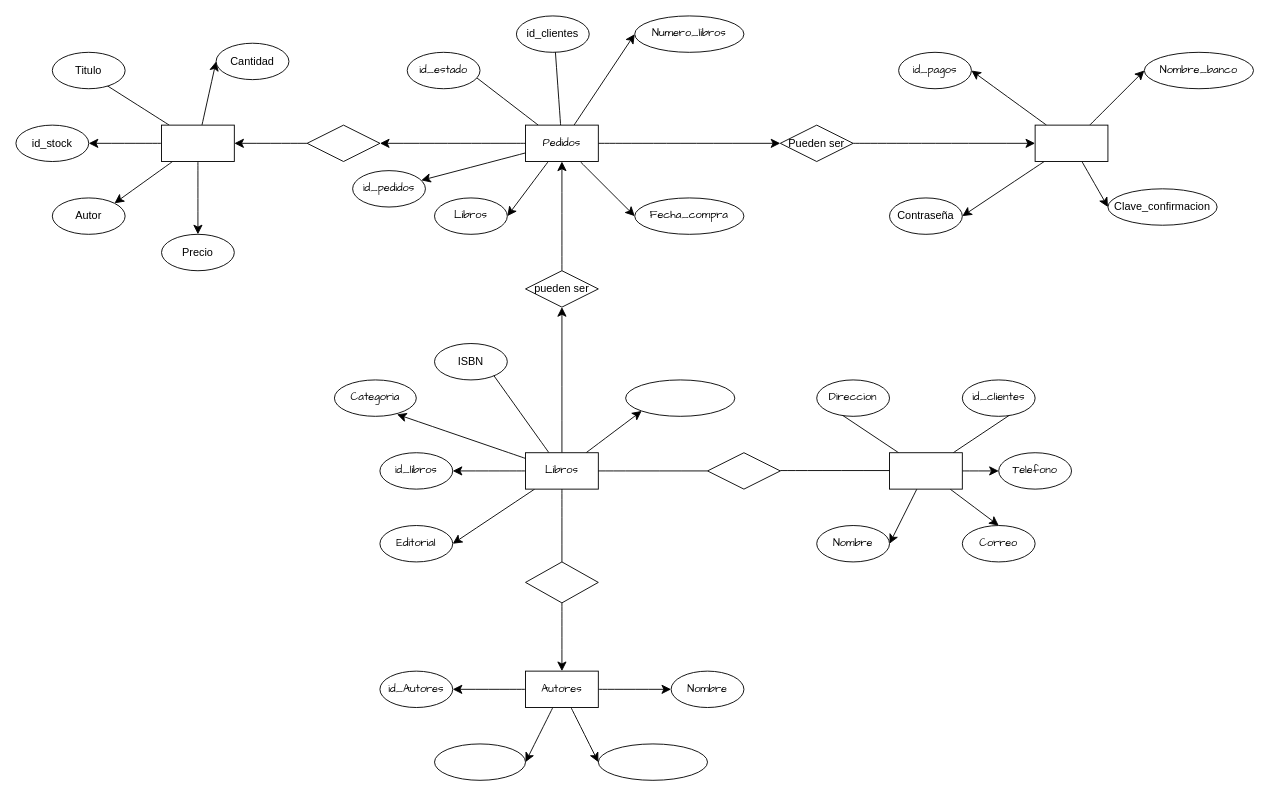
Image size: 1269x796. Some labels were removed from this diagram. The shapes that lost their labels are listed below. From the top down, each one's centre as x and y in pixels, then its label:
At (x=197, y=143): "Stock".
At (x=343, y=143): "Verifica".
At (x=1071, y=143): "Pagos".
At (x=680, y=397): "Fecha_publicacion".
At (x=743, y=470): "Puede tener".
At (x=925, y=470): "Clientes".
At (x=561, y=582): "Puede".
At (x=480, y=761): "Nacionalidad".
At (x=652, y=761): "Fecha_nacimiento".
